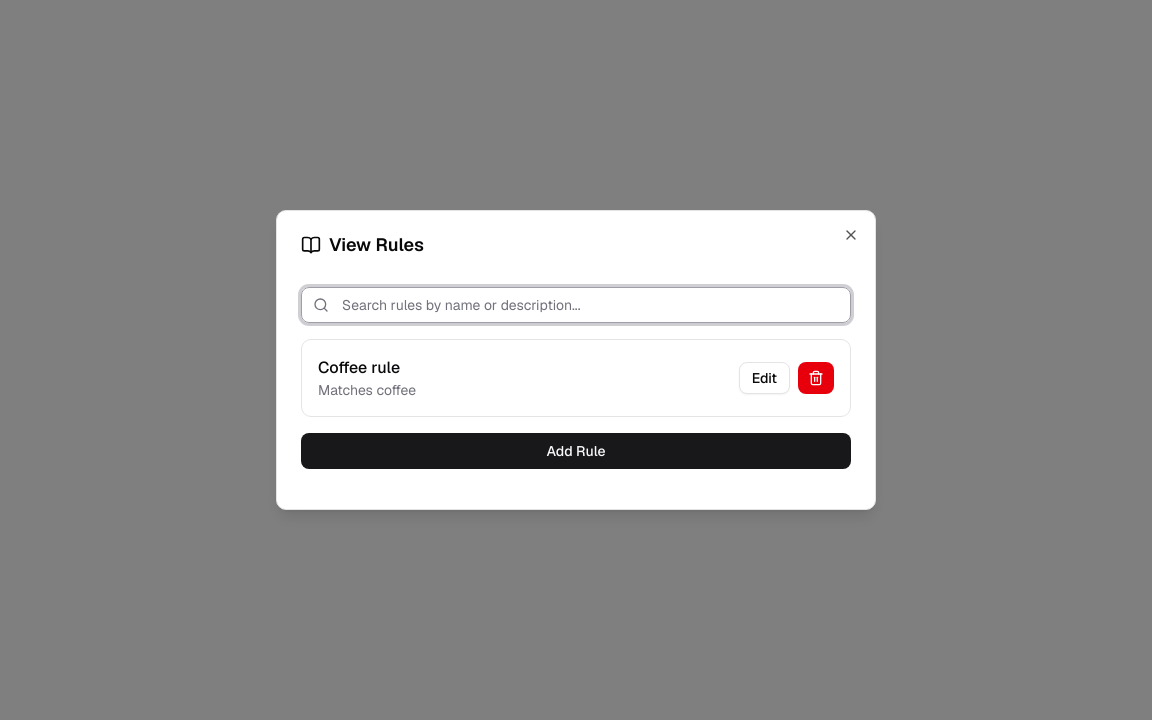
it: ViewRulesModal › closes the delete confirmation without deleting
Expected: the text "Coffee rule" is shown, [318,357,400,378]
Click the button named "Delete" in the row of "Matches coffee" at (816, 378), box [798,362,834,394]
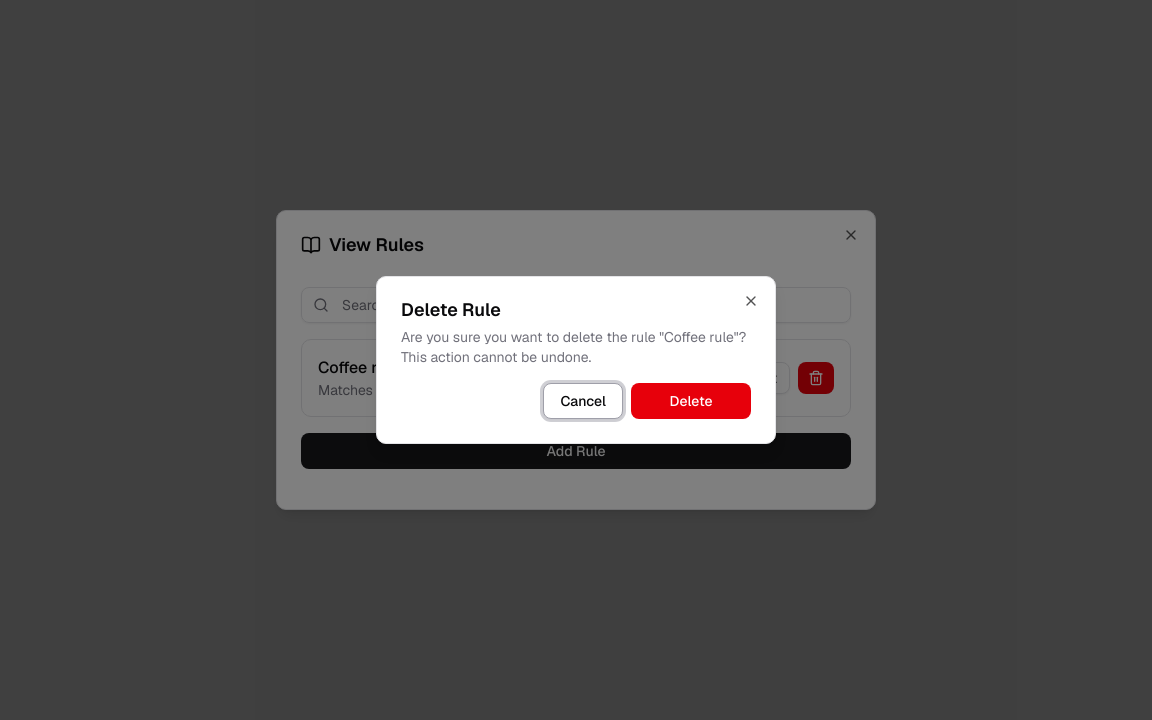
Click the button "Cancel" at (583, 401), box [543,383,623,419]
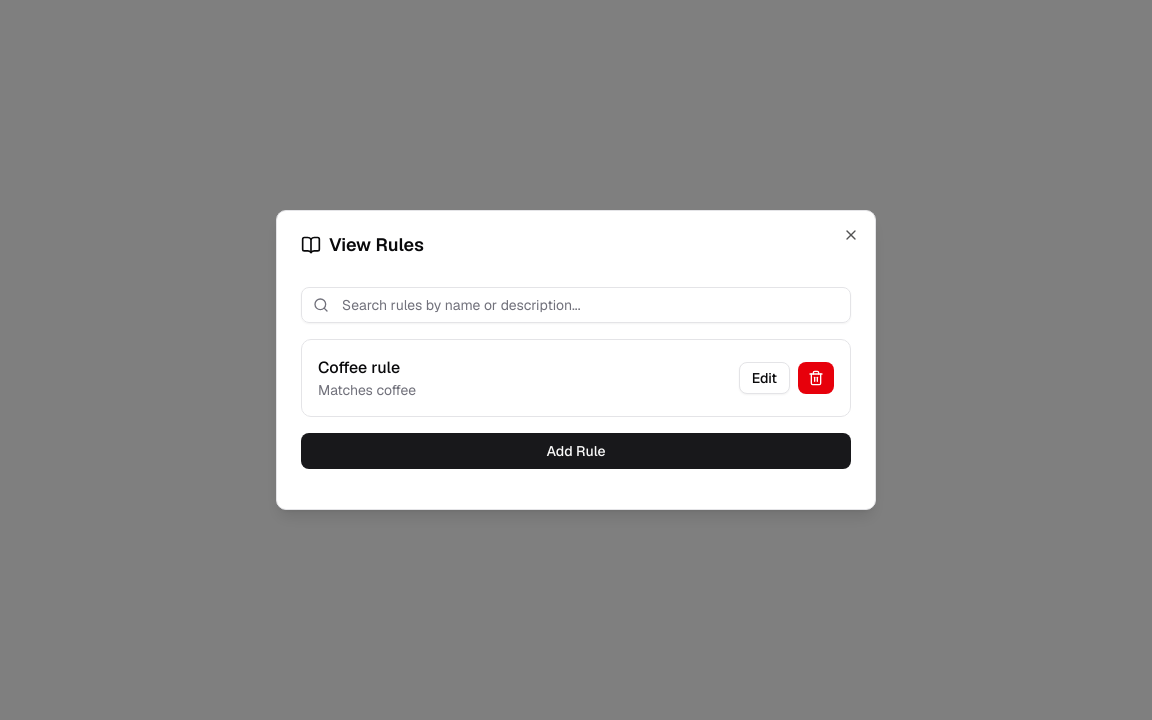
Result: the heading "Delete Rule" is gone
